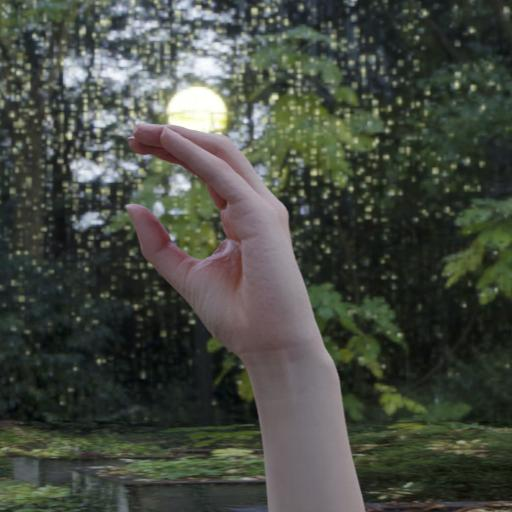C: (96, 80, 350, 412)
